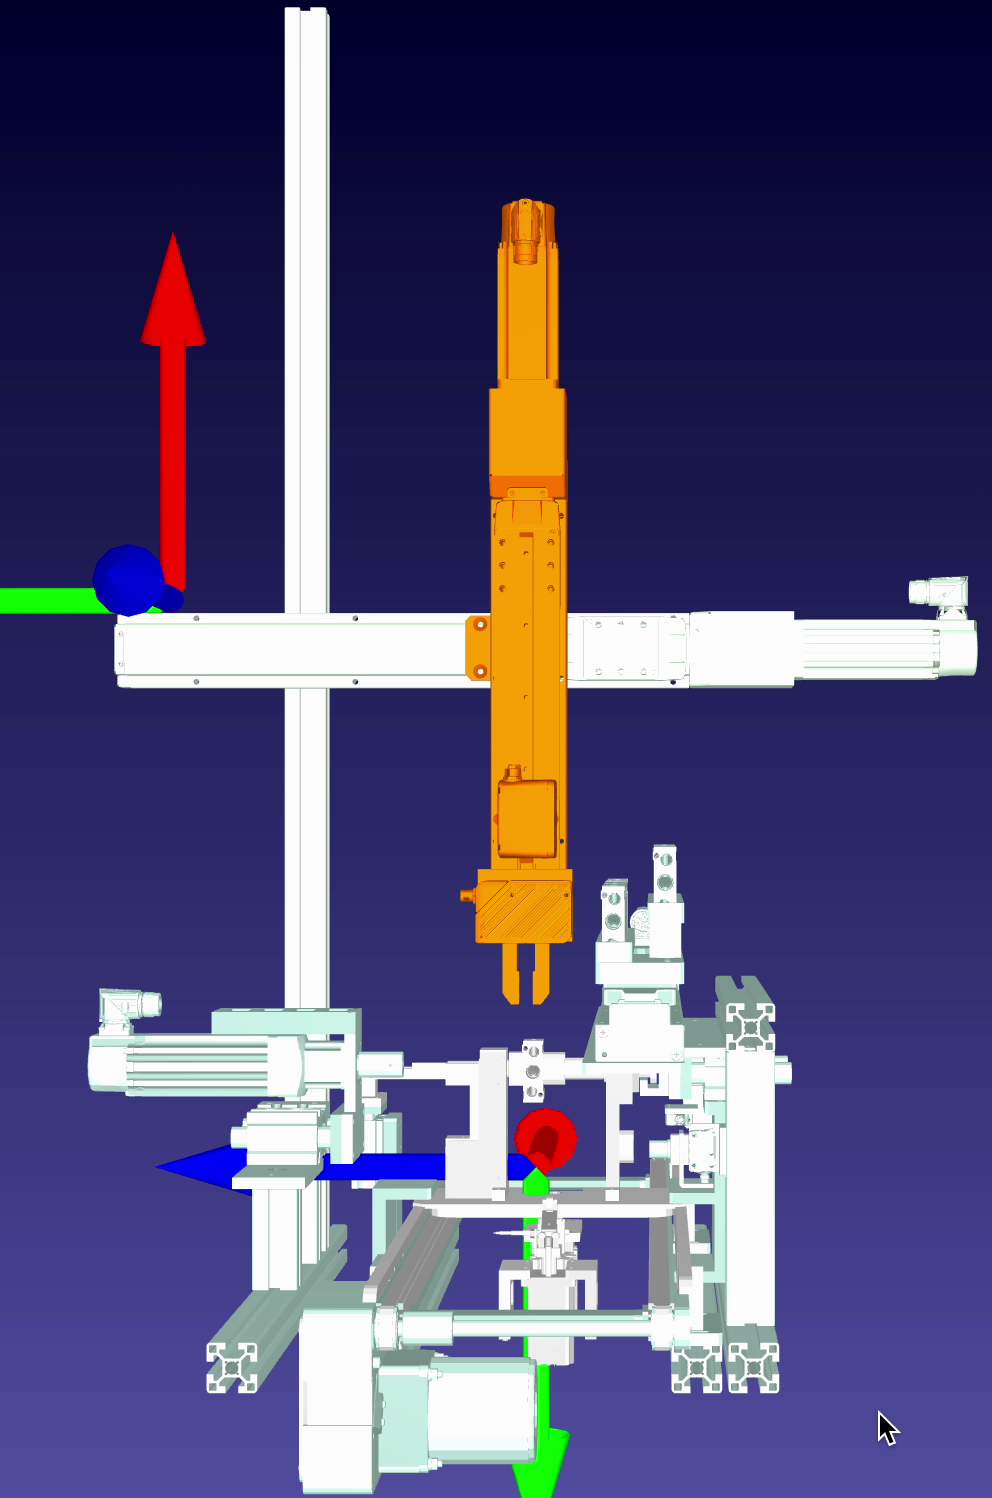Gripper: (457, 851, 583, 1011)
